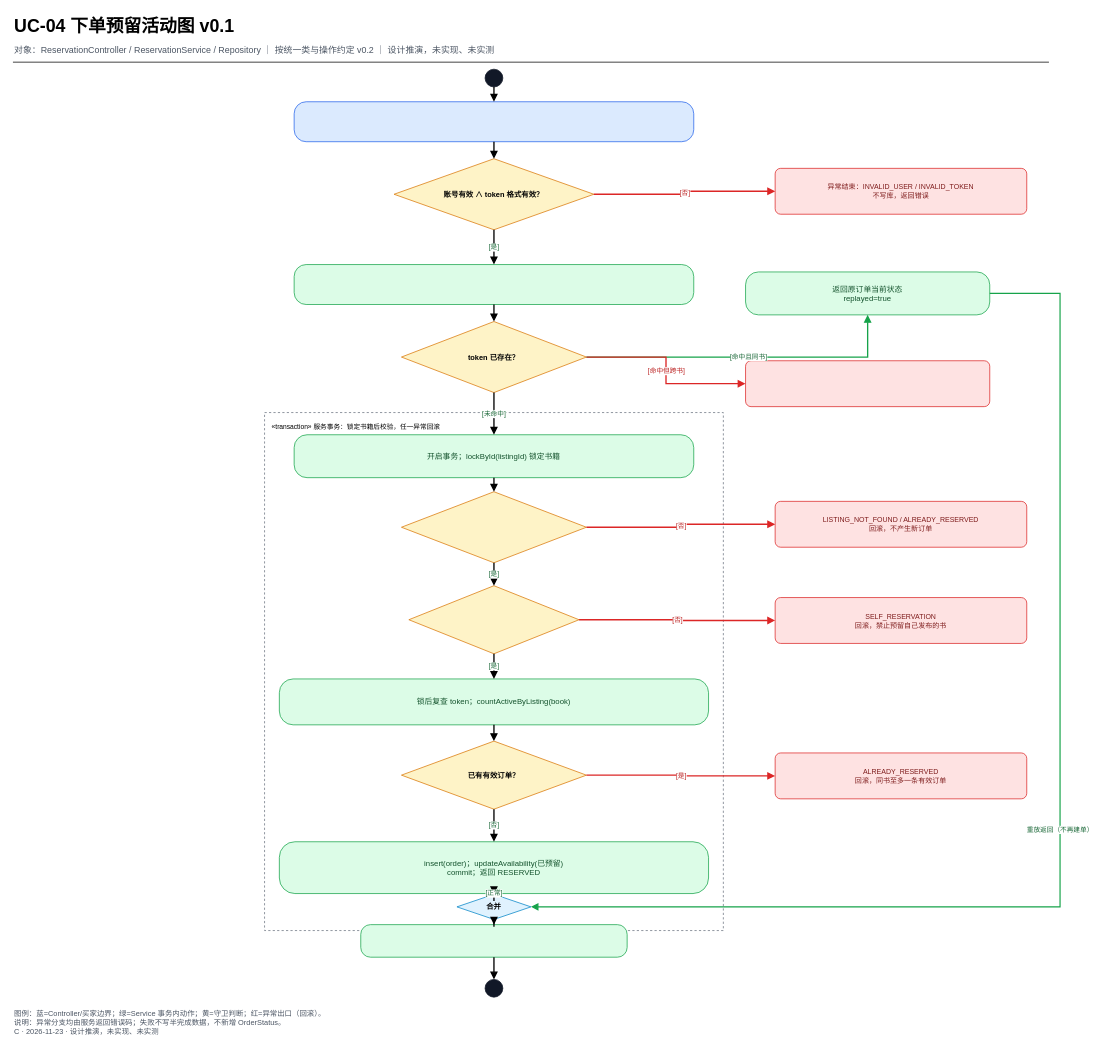
Image size: 1106x1052. Some labels were removed from this diagram. The centre of each missing label's shape, as x and y in pixels:
书存在且可售？: the point at 493,527
买家 ≠ 卖家？: the point at 493,619
买家提交 reserveBook(buyerId, listingId, requestToken): the point at 493,121
拒绝 TOKEN_TARGET_MISMATCH 回滚，不能把 A 书订单当 B 书成功: the point at 867,383
查询同买家 + token：findByBuyerAndToken: the point at 493,284
返回 RESULT （RESERVED 或原订单状态）: the point at 493,940
